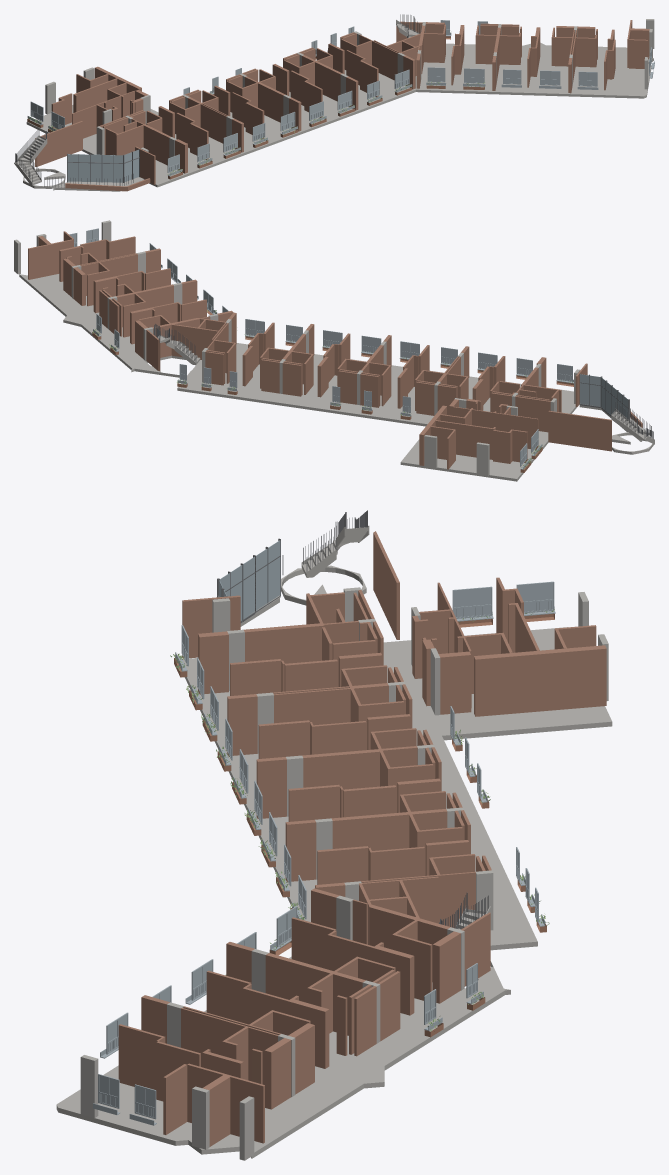
File: revit_nivel_3.glb
3 renders of one model, top to bottom at view 1: azimuth 30°, elevation 25°; view 2: azimuth 150°, elevation 25°; view 3: azimuth 270°, elevation 25°, orthographic. The views are drawn at different scales.
Visible parts, largest first — view 1: Revit_PISO 4; view 2: Revit_PISO 4; view 3: Revit_PISO 4.
Part boxes in pixels (box(x1,y1,x2,y2)): Revit_PISO 4: box(14, 14, 654, 191); Revit_PISO 4: box(14, 220, 654, 481); Revit_PISO 4: box(56, 510, 612, 1160).
Bounding box in the file's own units: 67.19 × 4.46 × 26.39.
